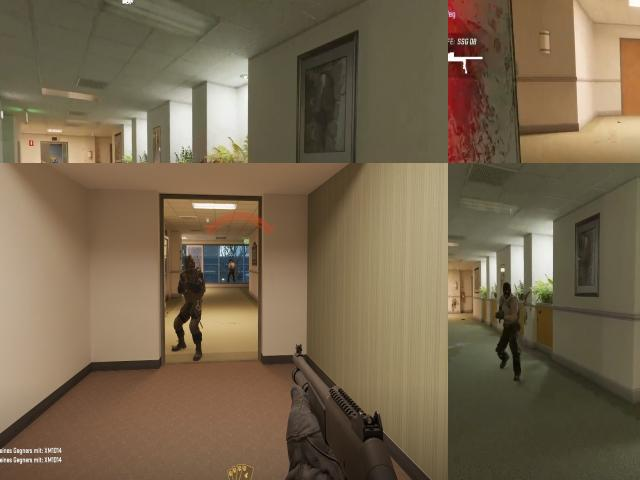CT: (175, 256, 206, 351)
CT-Head: (182, 256, 197, 275)
T: (496, 278, 522, 352), (226, 258, 235, 283)
T-Head: (500, 281, 514, 301), (230, 259, 232, 264)
